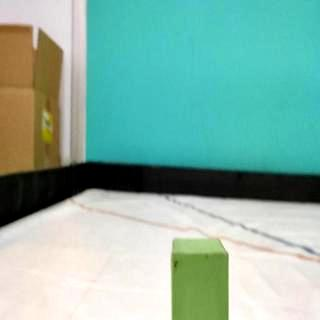greenbox: (171, 236, 231, 320)
